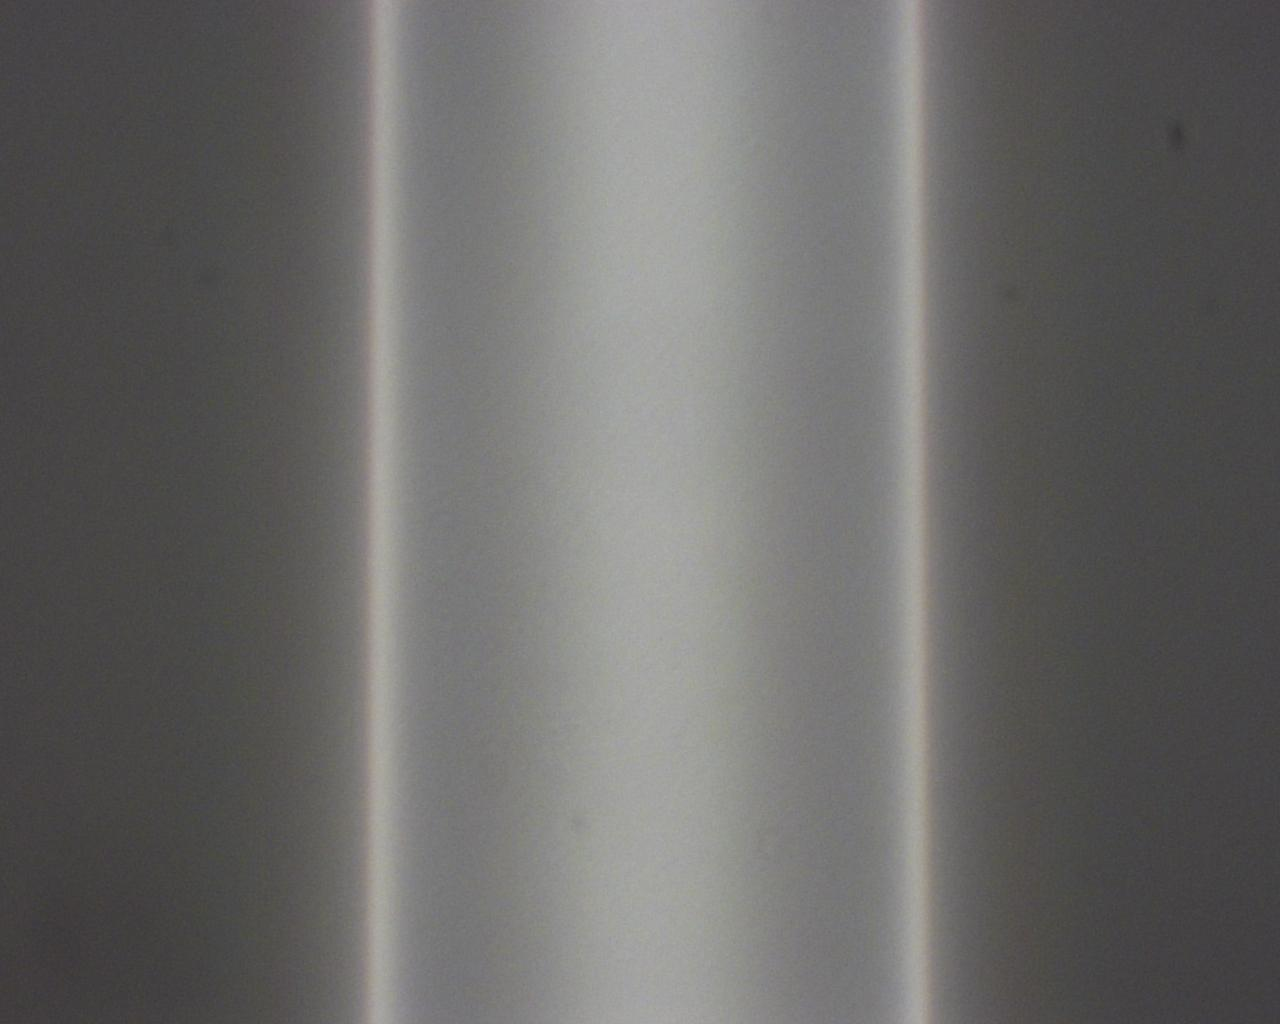fiber: (897, 0, 1148, 583), (478, 583, 627, 1024), (1061, 583, 1280, 805), (442, 468, 627, 555)
